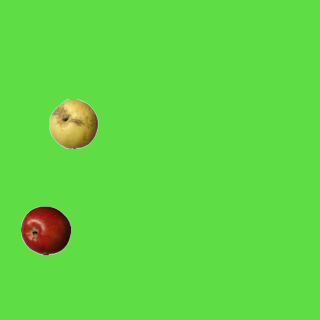Apple Braeburn: (20, 205, 70, 255)
Apple Golden 1: (48, 98, 98, 148)
